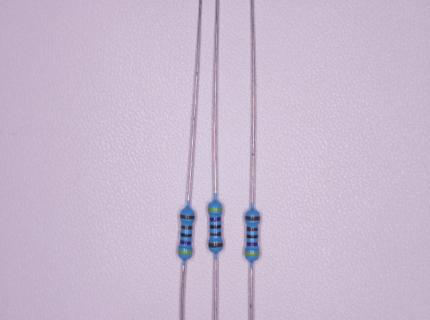Black band: (181, 232, 192, 237), (210, 225, 221, 229), (247, 235, 258, 239)
Brown band: (208, 243, 223, 248), (245, 216, 260, 220), (180, 215, 194, 219), (181, 225, 192, 230), (210, 232, 221, 236), (247, 227, 258, 231)
Violet band: (180, 240, 191, 246), (209, 217, 221, 221), (247, 242, 258, 246)
Yellow band: (178, 250, 193, 254), (245, 252, 259, 256), (208, 208, 222, 211)
